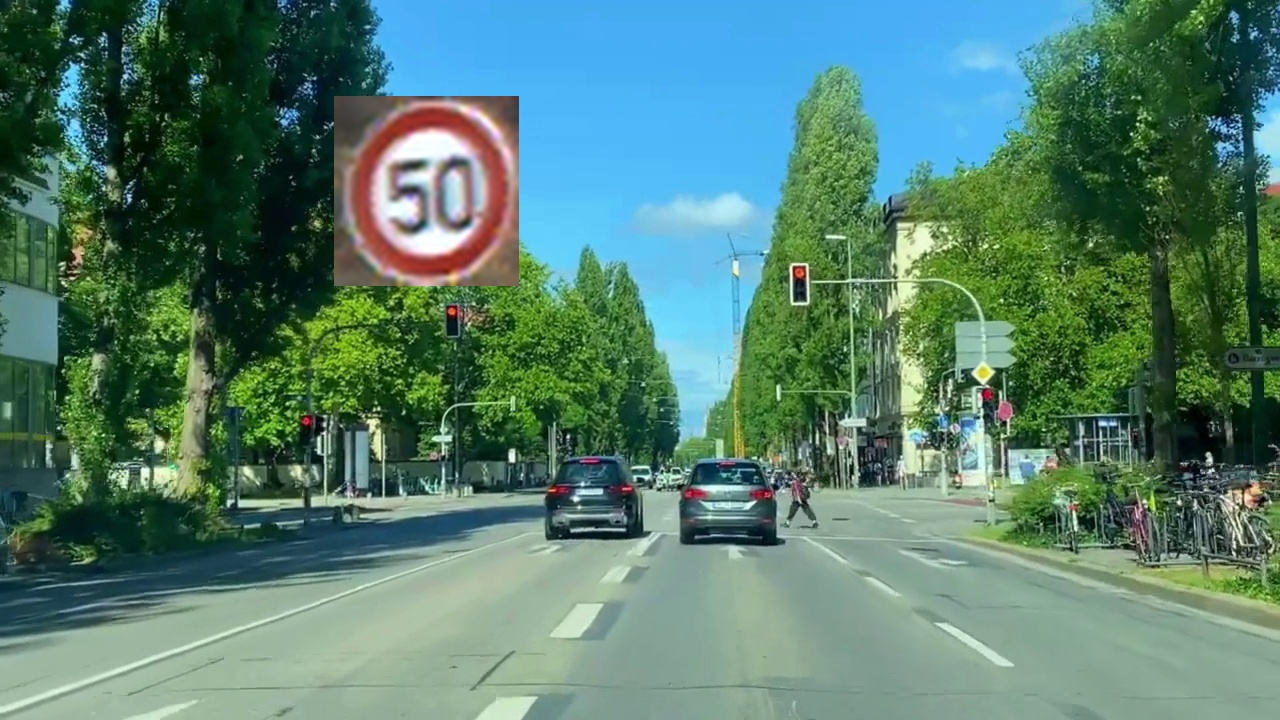Speed 50: (334, 96, 519, 286)
